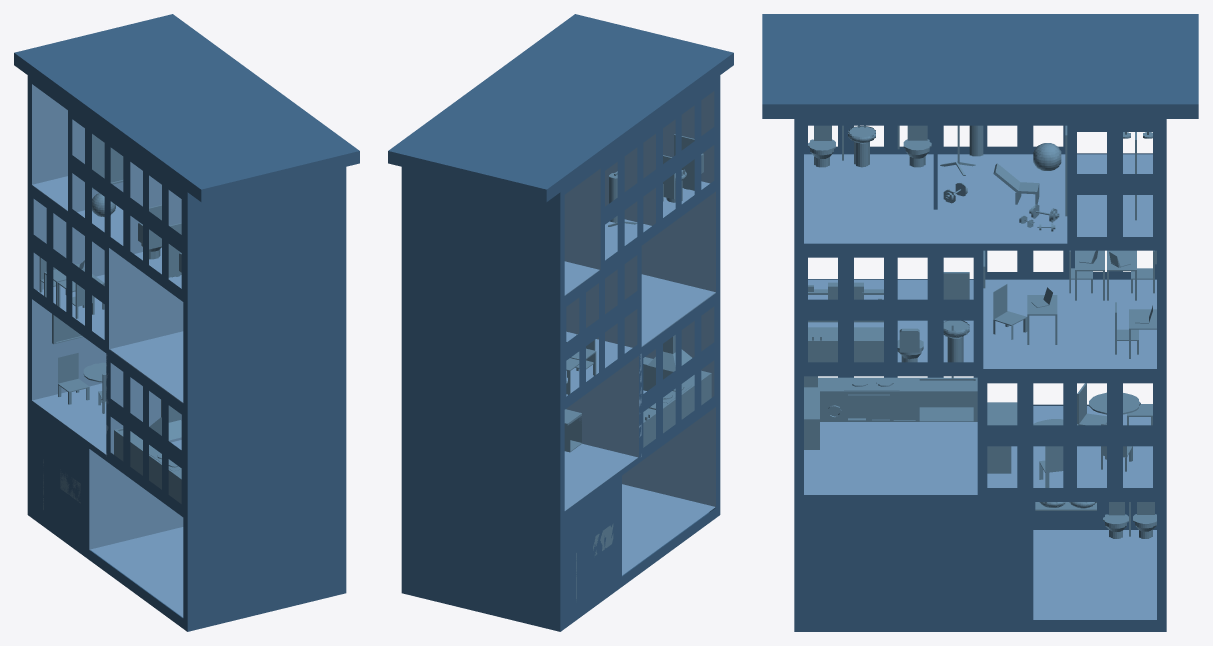
The model's file is office-2-transformed.glb.
The picture shows the model from 3 angles, left to right: view 1: azimuth 30°, elevation 25°; view 2: azimuth 150°, elevation 25°; view 3: azimuth 270°, elevation 25°; orthographic projection. The views are drawn at different scales.
Parts seen in each view (by area): view 1: office; view 2: office; view 3: office.
Part boxes in pixels (x1=…): office: x1=14, y1=14, x2=359, y2=631; office: x1=388, y1=14, x2=733, y2=631; office: x1=762, y1=14, x2=1198, y2=631.
Bounding box in the file's own units: 13.03 × 35.44 × 26.57.
2 materials, 2 textured.
